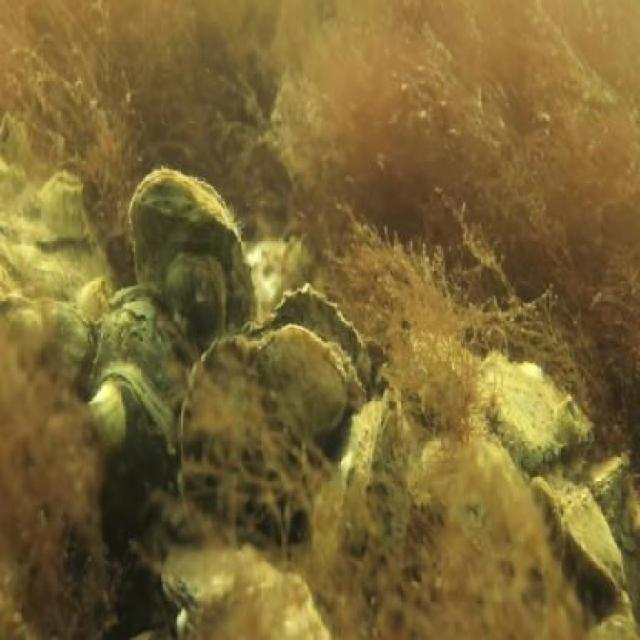Oyster-Closed: (0, 302, 99, 391)
Oyster-Indeterminate: (128, 167, 254, 321), (480, 346, 591, 460), (86, 360, 181, 486), (94, 290, 198, 401), (188, 563, 335, 640), (532, 474, 623, 595), (160, 531, 266, 620), (166, 254, 226, 346)
Oyster-Open: (212, 283, 366, 442)
